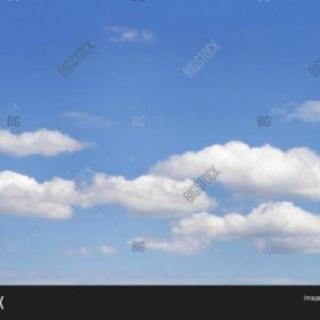Cirrostratus: (0, 96, 320, 254)
